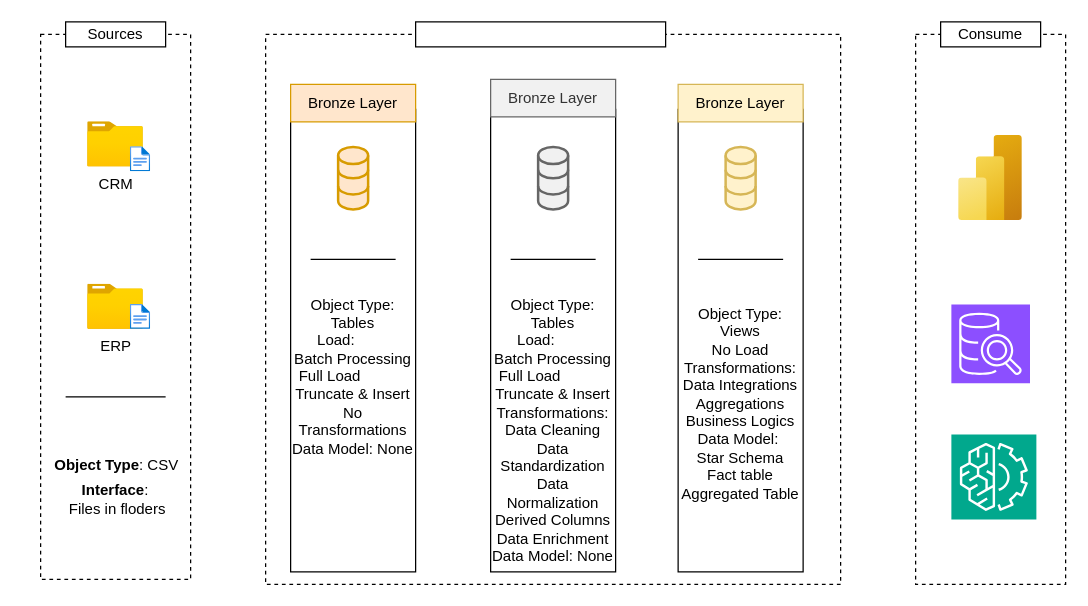
Image size: 1088x606. Some labels were removed from this diagram. The centre of each missing label's shape, as x and y in pixels:
Business Ready Data: point (740, 177)
Cleand & Standardized Data: point (552, 177)
Data Warehouse: point (540, 34)
Raw Data: point (352, 177)
